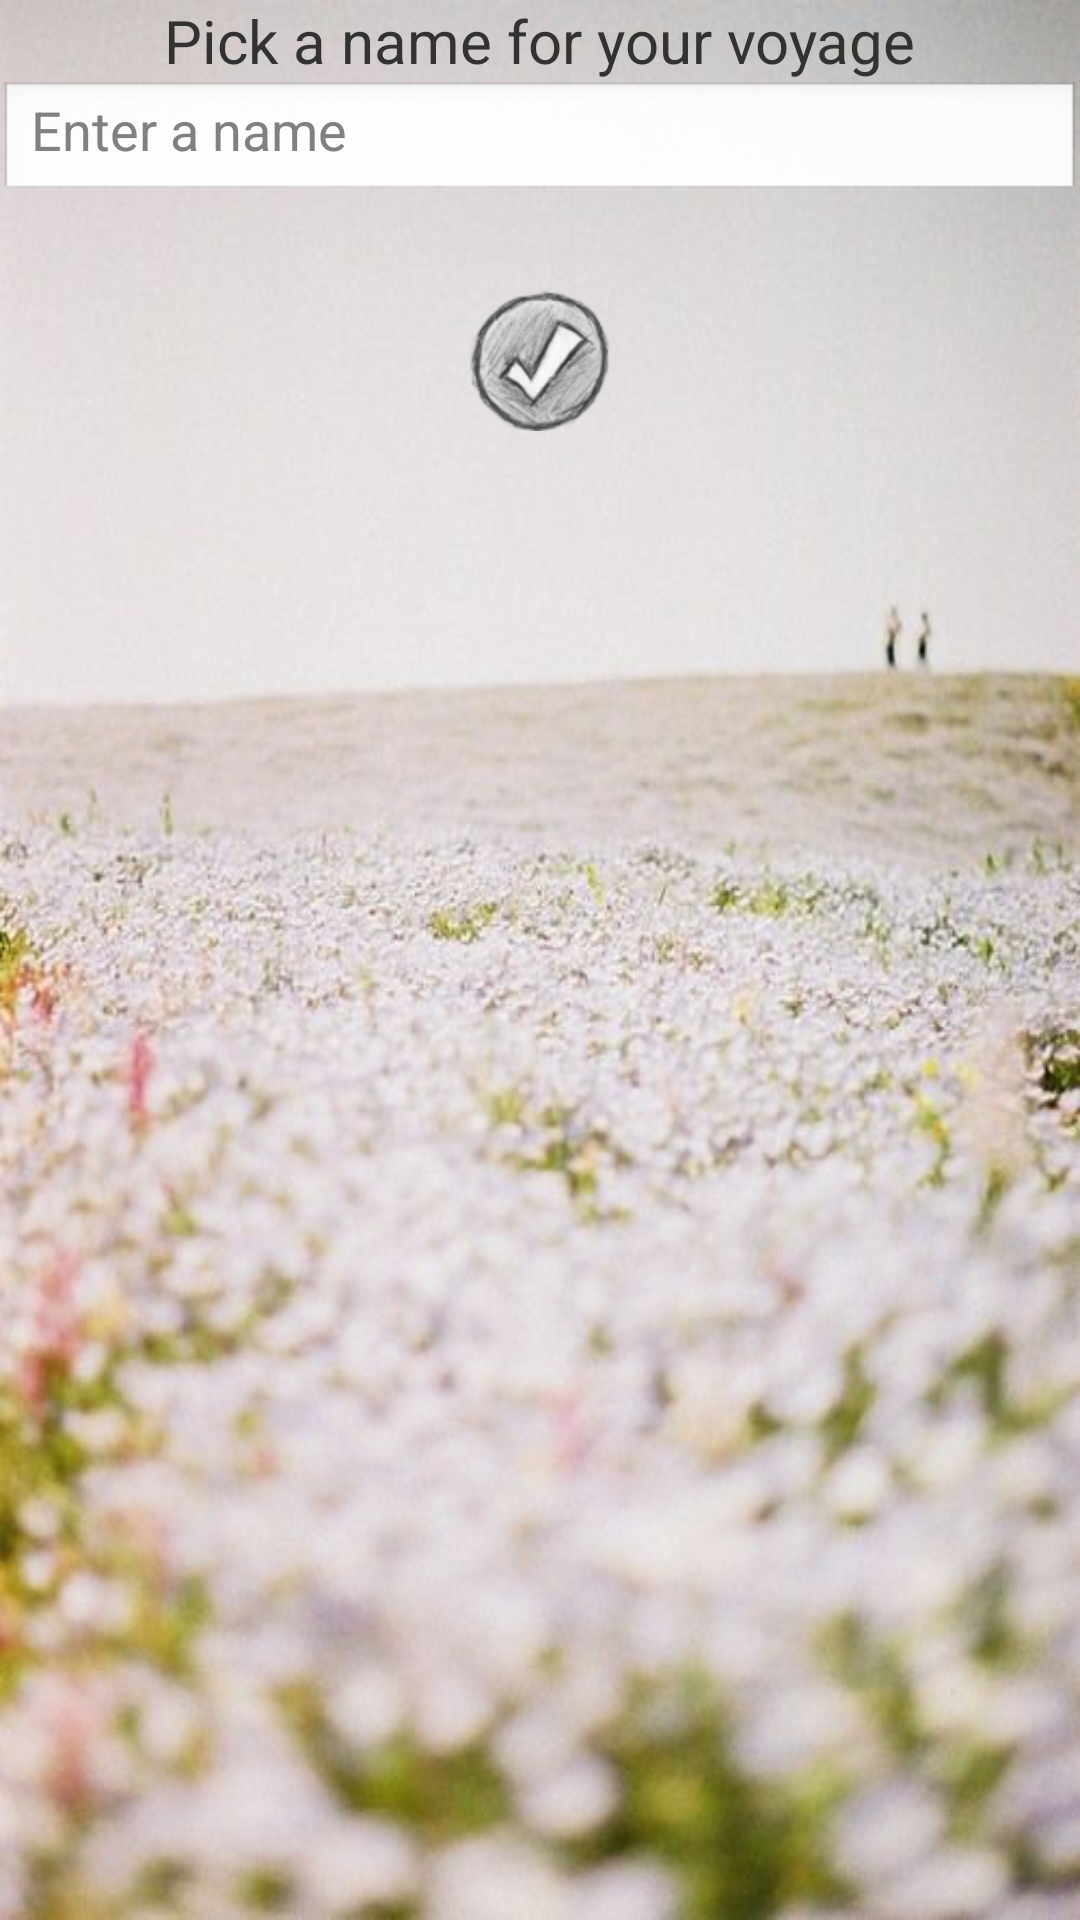

Icon bounding boxes for this 1080px x 1920px phone screenshot, format (x1=x1, y1=y1, x2=x2, y2=y2):
tick: (x1=470, y1=291, x2=609, y2=431)
